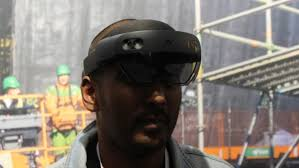hololens: (81, 24, 203, 89)
